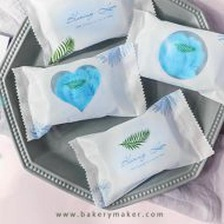snack: (63, 84, 217, 212), (8, 38, 151, 145), (114, 4, 224, 108), (10, 0, 161, 69)
